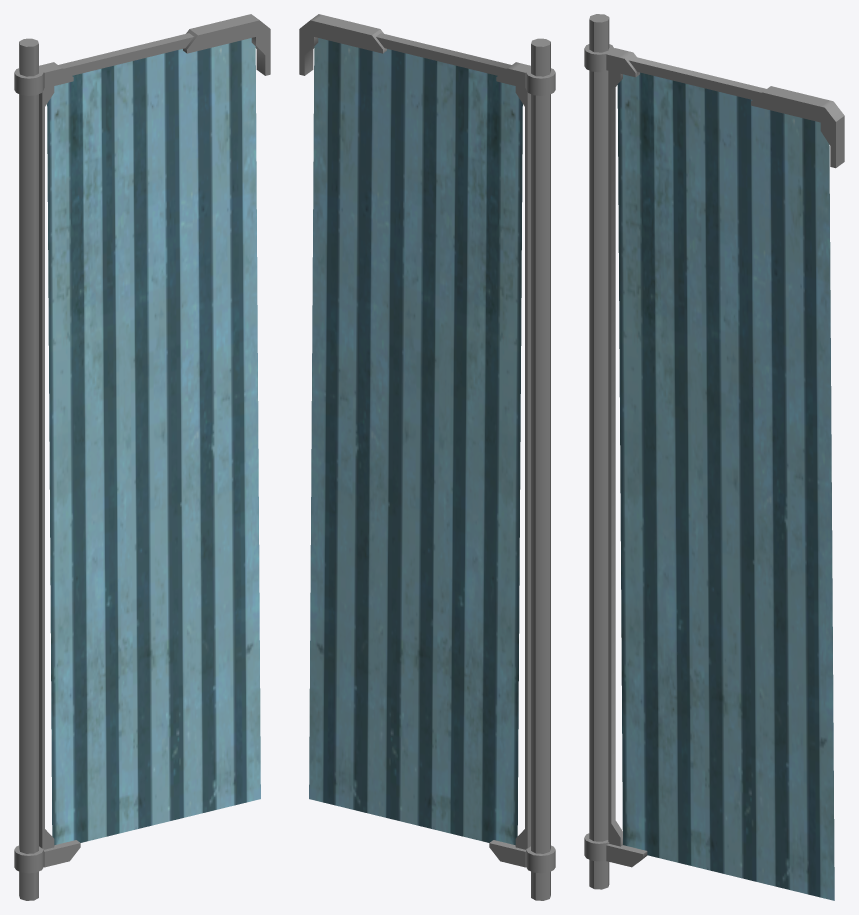
Rendered from Neon_GenSign_01.FBX.
The picture shows the model from 3 angles, left to right: view 1: azimuth 30°, elevation 25°; view 2: azimuth 150°, elevation 25°; view 3: azimuth 330°, elevation 25°; orthographic projection.
Parts seen in each view (by area): view 1: Neon_GenSign_01; view 2: Neon_GenSign_01; view 3: Neon_GenSign_01.
Boxes of the visible parts, bbox=[...] form: Neon_GenSign_01: bbox=[14, 14, 270, 900]; Neon_GenSign_01: bbox=[299, 14, 555, 900]; Neon_GenSign_01: bbox=[584, 14, 844, 900].
Size of the model in its own units: 0.8433 by 2.75 by 0.0865.
